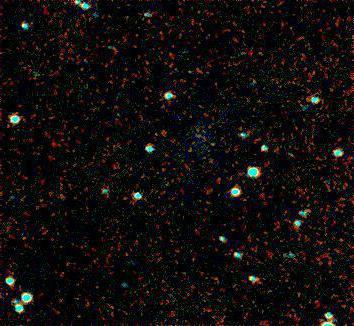star: (12, 10, 42, 40)
